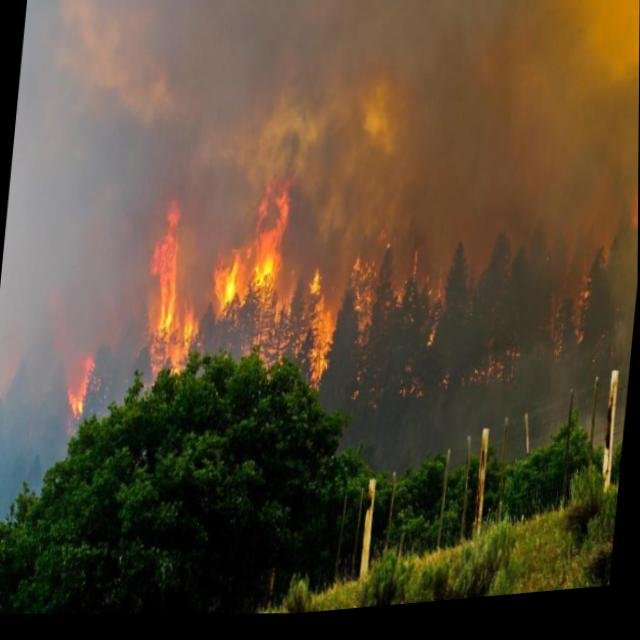Fire: (114, 172, 392, 451), (61, 346, 97, 426)
